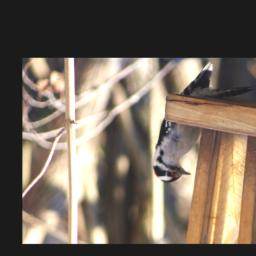Woodpecker: (152, 63, 254, 183)
